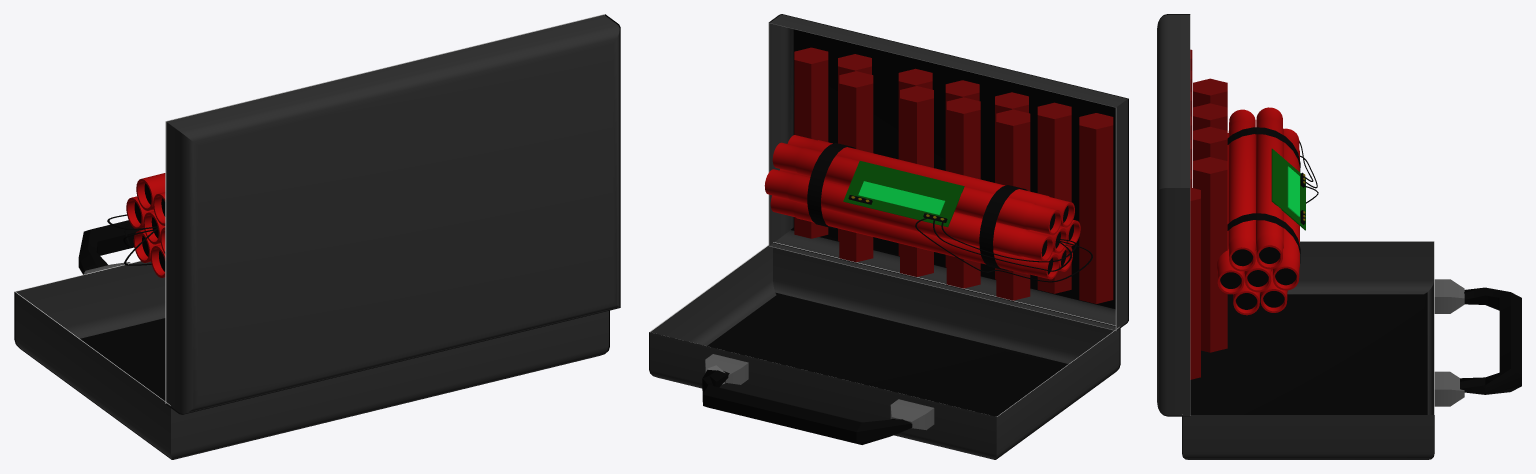
Rendered from Bombahard.fbx.
3 renders of one model, left to right at view 1: azimuth 30°, elevation 25°; view 2: azimuth 150°, elevation 25°; view 3: azimuth 270°, elevation 25°, orthographic. The views are drawn at different scales.
Visible parts, largest first — view 1: Mesh (3); view 2: Mesh (3); view 3: Mesh (3).
Part boxes in pixels (bbox=[...]): Mesh (3): bbox=[14, 14, 620, 459]; Mesh (3): bbox=[649, 14, 1128, 459]; Mesh (3): bbox=[1157, 14, 1521, 459].
Bounding box in the file's own units: 438 × 321 × 385.
